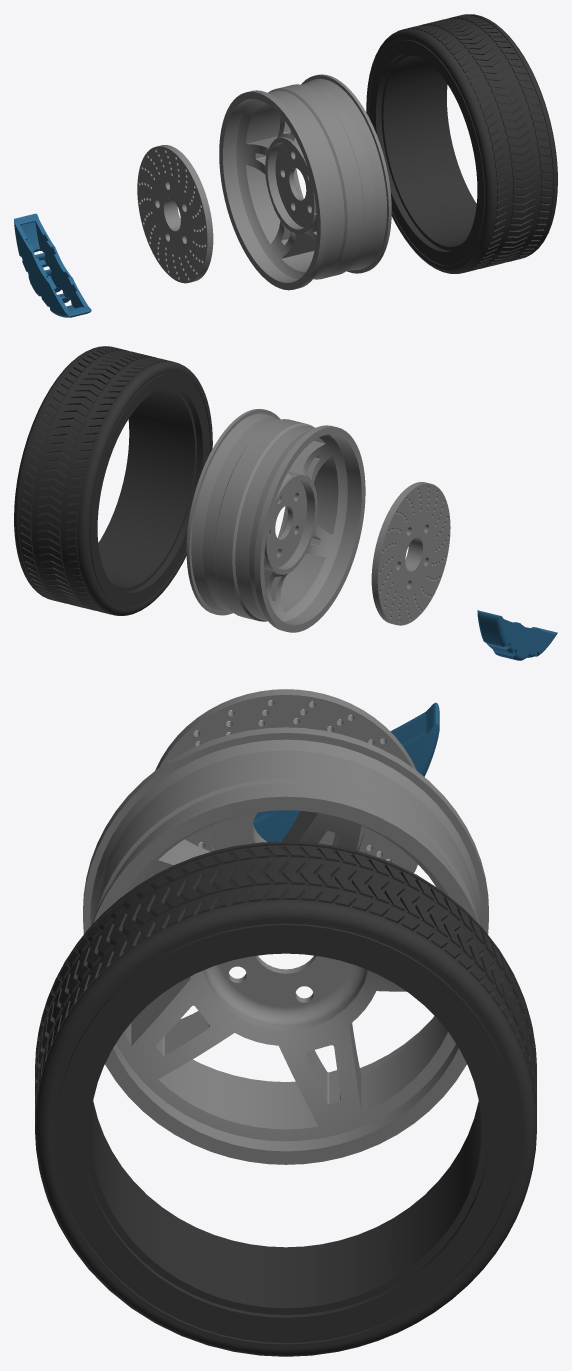
Rendered from Alloy.glb.
The picture shows the model from 3 angles, top to bottom: view 1: azimuth 30°, elevation 25°; view 2: azimuth 150°, elevation 25°; view 3: azimuth 270°, elevation 25°; orthographic projection. The views are drawn at different scales.
Visible parts, largest first — view 1: Body4, Body1, Body2, Body3; view 2: Body4, Body1, Body2, Body3; view 3: Body4, Body1, Body2, Body3.
Part boxes in pixels (box(x1,y1,x2,y2)): Body4: box(366, 14, 557, 273); Body1: box(219, 74, 391, 290); Body2: box(137, 145, 213, 283); Body3: box(14, 213, 91, 317); Body4: box(14, 346, 212, 615); Body1: box(186, 409, 365, 632); Body2: box(371, 482, 450, 625); Body3: box(477, 610, 557, 660); Body4: box(35, 841, 536, 1356); Body1: box(83, 727, 488, 1164); Body2: box(155, 689, 417, 873); Body3: box(253, 702, 439, 841).
Bounding box in the file's own units: 0.2281 × 0.111 × 0.111.
